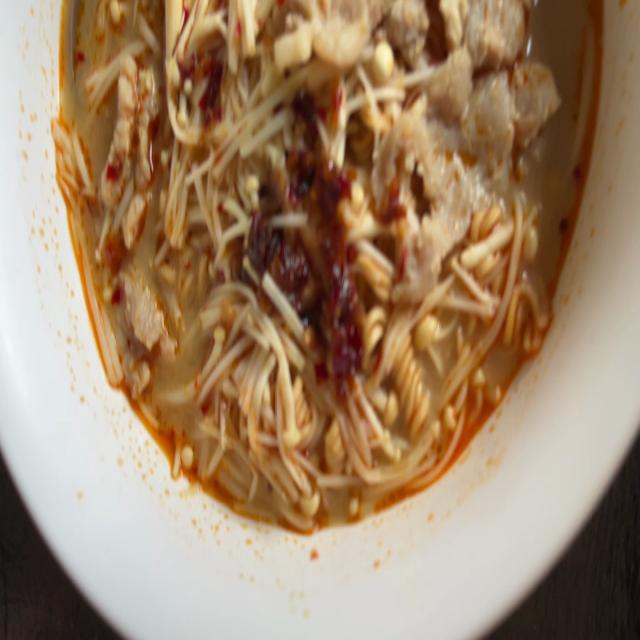noodle: (26, 0, 618, 535)
